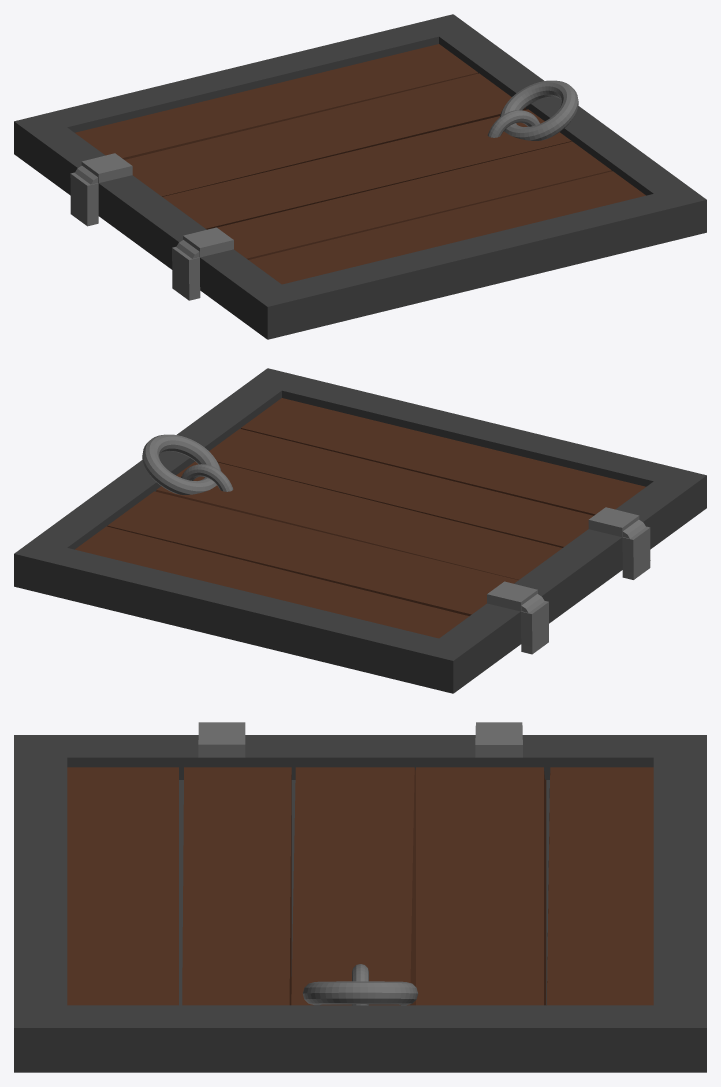
Rendered from trapdoor.fbx.
The picture shows the model from 3 angles, top to bottom: view 1: azimuth 30°, elevation 25°; view 2: azimuth 150°, elevation 25°; view 3: azimuth 270°, elevation 25°; orthographic projection. The views are drawn at different scales.
Visible parts, largest first — view 1: Trapdoor, Hinges, Handle; view 2: Trapdoor, Hinges, Handle; view 3: Trapdoor, Hinges, Handle.
Part boxes in pixels (x1,y1,x2,y2): Trapdoor: [14, 14, 706, 339]; Hinges: [70, 153, 233, 300]; Handle: [487, 80, 578, 140]; Trapdoor: [14, 368, 706, 693]; Hinges: [487, 507, 650, 654]; Handle: [142, 434, 233, 494]; Trapdoor: [14, 735, 706, 1072]; Hinges: [198, 722, 522, 757]; Handle: [302, 964, 418, 1005].
Bounding box in the file's own units: 196 × 27.59 × 191.
